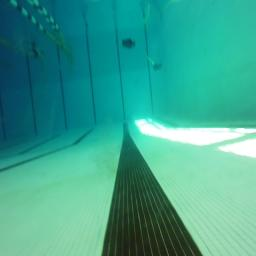Full: (122, 38, 135, 48), (153, 62, 162, 69)
